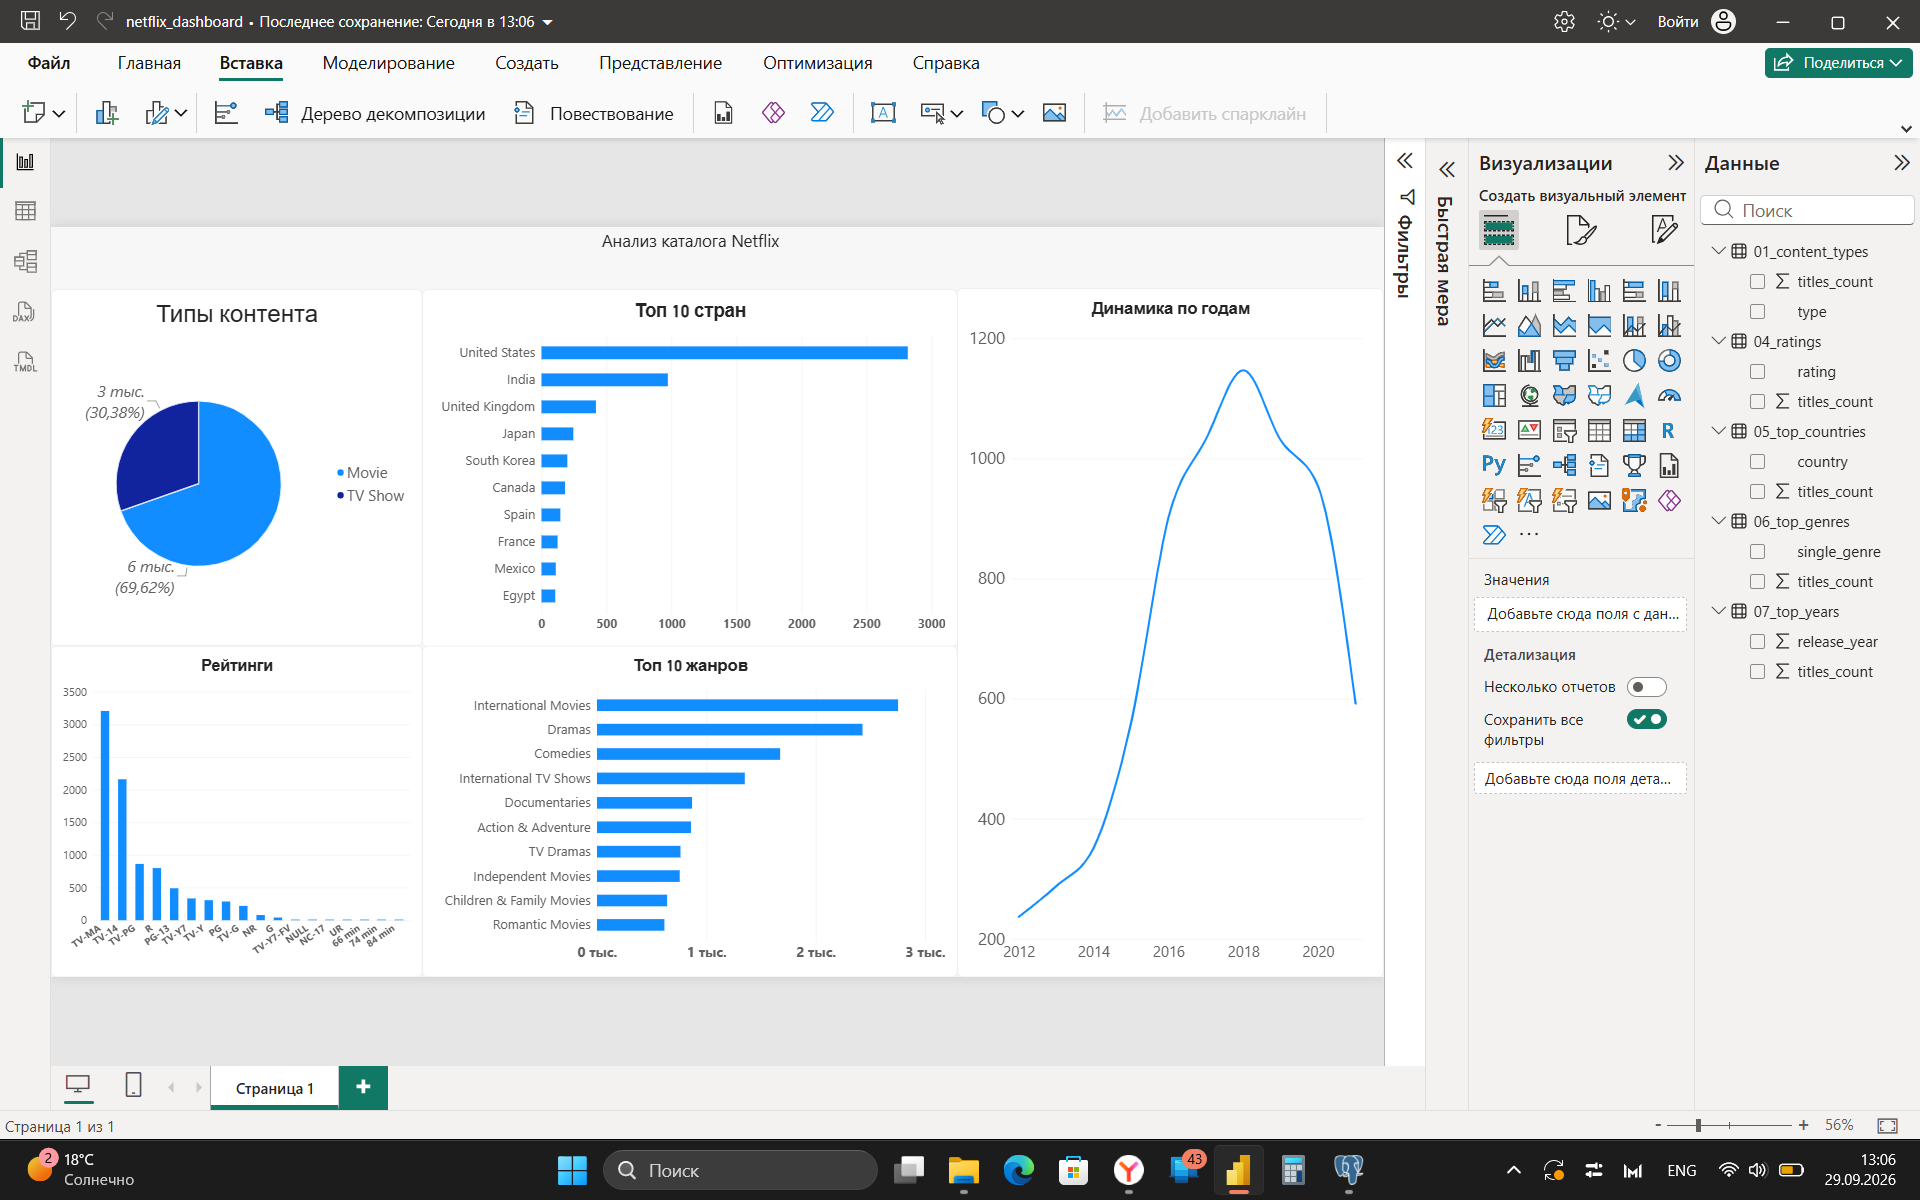

The dashboard page shown, as its layout file describes it:
{"tool":"powerbi","page":{"name":"Страница 1","canvas":[1920,1080],"ordinal":0},"visuals":[{"type":"pieChart","title":"Типы контента","fields":{"Category":["01_content_types.type"],"Y":["Sum(01_content_types.titles_count)"]},"box":[0,90.1,534.9,513.3],"z":0},{"type":"columnChart","title":"Рейтинги","fields":{"Category":["04_ratings.rating"],"Y":["Sum(04_ratings.titles_count)"]},"box":[0,603.4,534.9,477.3],"z":1000},{"type":"clusteredBarChart","title":"Топ 10 стран","fields":{"Category":["05_top_countries.country"],"Y":["Sum(05_top_countries.titles_count)"]},"box":[534.9,90.1,770.9,515.1],"z":2000},{"type":"barChart","title":"Топ 10 жанров","fields":{"Category":["06_top_genres.single_genre"],"Y":["Sum(06_top_genres.titles_count)"]},"box":[534.9,603.4,770.9,477.3],"z":3000},{"type":"lineChart","title":"Динамика по годам","fields":{"Category":["07_top_years.release_year"],"Y":["Sum(07_top_years.titles_count)"]},"box":[1305.8,88.3,614.2,992.4],"z":4000},{"type":"textbox","box":[635.8,0,571,226.9],"z":4002}]}

Visuals, with their boxes on the page's 1920x1080 design canvas (x1, y1, x2, y2). These are canvas units, not pixel positions in the 1920x1200 screenshot, which may show the page scaled, cropped or inside an application window:
"Типы контента" pieChart: l=0, t=90, r=535, b=603
"Рейтинги" columnChart: l=0, t=603, r=535, b=1081
"Топ 10 стран" clusteredBarChart: l=535, t=90, r=1306, b=605
"Топ 10 жанров" barChart: l=535, t=603, r=1306, b=1081
"Динамика по годам" lineChart: l=1306, t=88, r=1920, b=1081
textbox: l=636, t=0, r=1207, b=227
